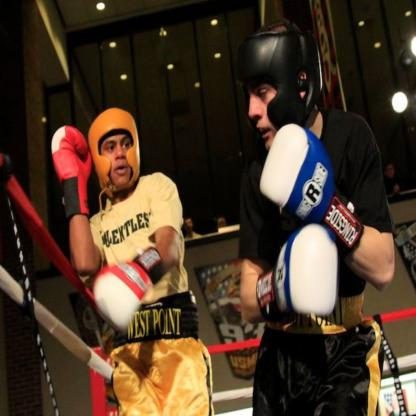Helmet: (236, 24, 324, 140), (86, 105, 140, 204)
